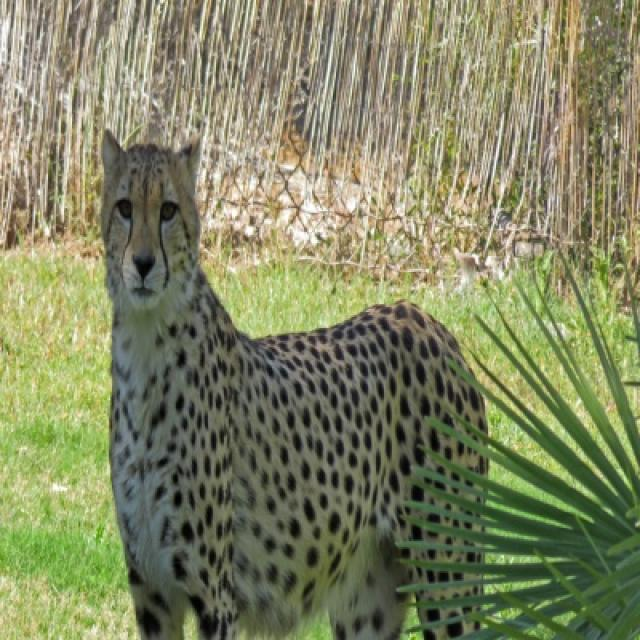Cheetah: (99, 133, 491, 638)
